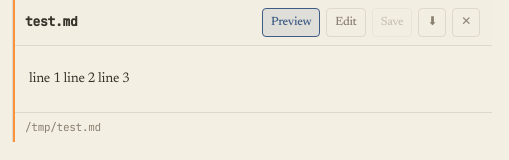
DocumentPanel — Right-click Comment › shows context menu on right-click with text selection
Note: Right-click on content area
Step 1. Right-click the element with class "overflow-hidden" → (79, 79), box [29,72,130,86]
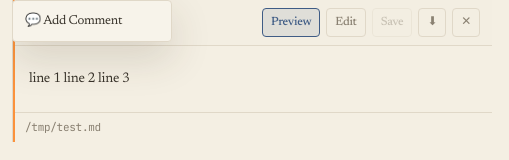
Expected: the button "💬 Add Comment" is shown, [13,5,171,37]
